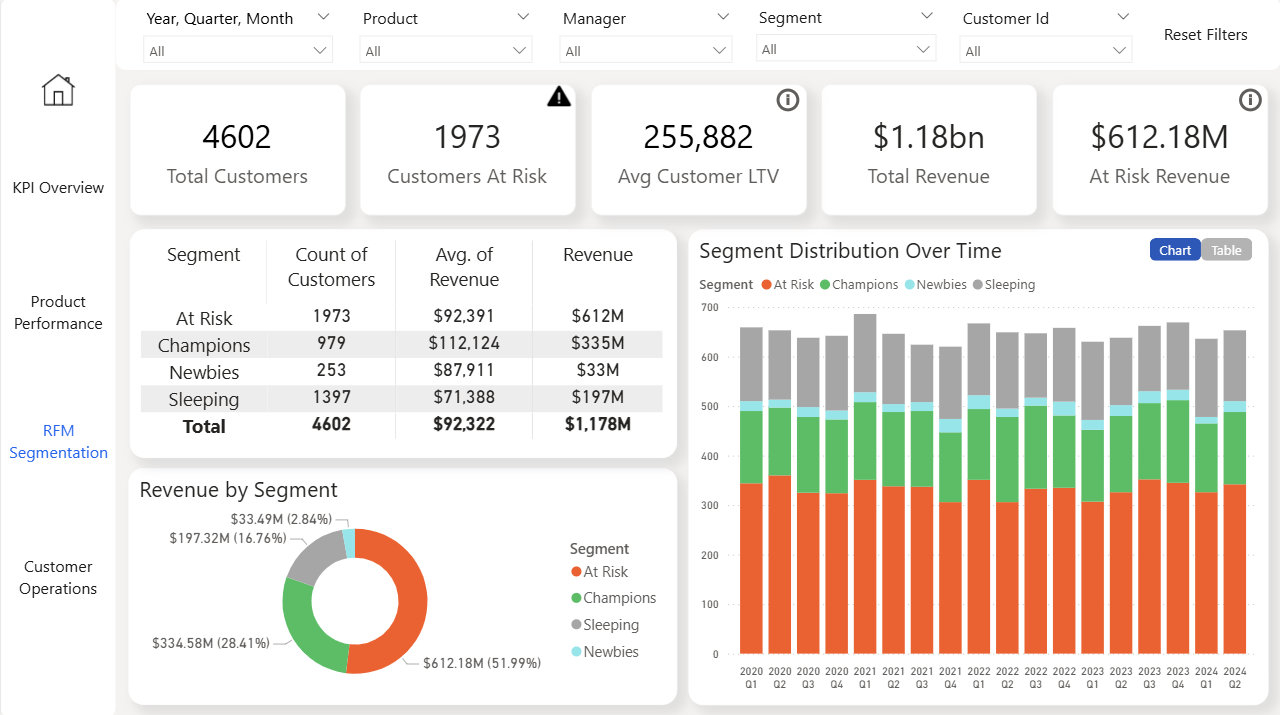

The page's visual inventory and layout, read from the dashboard file:
{"tool":"powerbi","page":{"name":"RFM Segmentation","canvas":[1280,720],"ordinal":3},"visuals":[{"type":"card","fields":{"Values":["_measures (2).Total Customers"]},"box":[128.6,86,215.7,131.4],"z":0},{"type":"card","fields":{"Values":["_measures (2).At Risk Count"]},"box":[359.2,86,215.7,131.4],"z":1000},{"type":"card","fields":{"Values":["_measures.At Risk Revenue"]},"box":[1051.4,86,215.7,131.4],"z":2000},{"type":"donutChart","title":"Revenue by Segment","fields":{"Category":["mart dim_customer.segment"],"Y":["_measures.Total Revenue"]},"box":[127.1,470,548.6,237.1],"z":3000},{"type":"pivotTable","fields":{"Values":["_measures.Total Customers","Avg(mart fact_sales.total_amount)","_measures.Revenue_Millions"],"Rows":["mart dim_customer.segment"]},"box":[128.6,231.4,547.1,228.6],"z":4000},{"type":"columnChart","title":"Segment Distribution Over Time","fields":{"Category":["mart dim_date.quarter_year"],"Y":["_measures (2).Total Customers"],"Series":["mart dim_customer.segment"]},"box":[687.1,231.4,580,475.7],"z":5000},{"type":"actionButton","title":"Chart_button_active","box":[1148.6,240,51.4,22.9],"z":7000},{"type":"actionButton","title":"Table_button_active","box":[1200,240,51.4,22.9],"z":9000},{"type":"textbox","box":[0,0,114.3,720],"z":10000},{"type":"actionButton","box":[0,161.4,114.3,54.3],"z":11000},{"type":"actionButton","box":[0,285.7,114.3,54.3],"z":12000},{"type":"actionButton","box":[0,551.4,114.3,54.3],"z":13000},{"type":"actionButton","box":[0,415.5,115.5,54.5],"z":14000},{"type":"card","fields":{"Values":["_measures.Total Revenue"]},"box":[820.5,86,216,131],"z":15000},{"type":"actionButton","box":[36.2,71.5,48.5,42.3],"z":16000},{"type":"textbox","box":[115,0,1165,71.7],"z":17000},{"type":"card","fields":{"Values":["_measures.Average Customer LTV"]},"box":[589.9,86,215.7,131.4],"z":18000},{"type":"slicer","fields":{"Values":["mart dim_date.year Hierarchy.Year","mart dim_date.year Hierarchy.Quarter","mart dim_date.year Hierarchy.Month"]},"box":[128.9,0,216.7,72.2],"z":20000},{"type":"slicer","fields":{"Values":["mart fact_sales.manager"]},"box":[545.6,0,200,72.2],"z":21000},{"type":"slicer","fields":{"Values":["mart dim_customer.Masked_Customer_Id"]},"box":[945.6,0,200,72.2],"z":22000},{"type":"slicer","fields":{"Values":["mart dim_product.product_name"]},"box":[345.6,0,200,72.2],"z":23000},{"type":"actionButton","box":[1145.6,0,120,72],"z":24000},{"type":"slicer","fields":{"Values":["mart dim_customer.segment"]},"box":[745.6,3,200,63.3],"z":25000},{"type":"actionButton","box":[771.4,85.7,34.3,31.4],"z":26000},{"type":"actionButton","box":[1234.3,85.7,34.3,31.4],"z":27000},{"type":"image","box":[542.9,85.7,31.4,24.3],"z":27001}]}

Visuals, with their boxes on the page's 1280x720 design canvas (x1, y1, x2, y2). These are canvas units, not pixel positions in the 1280x715 screenshot, which may show the page scaled, cropped or inside an application window:
card - _measures (2).Total Customers: l=129, t=86, r=344, b=217
card - _measures (2).At Risk Count: l=359, t=86, r=575, b=217
card - _measures.At Risk Revenue: l=1051, t=86, r=1267, b=217
"Revenue by Segment" donutChart: l=127, t=470, r=676, b=707
pivotTable - _measures.Total Customers x Avg(mart fact_sales.total_amount): l=129, t=231, r=676, b=460
"Segment Distribution Over Time" columnChart: l=687, t=231, r=1267, b=707
"Chart_button_active" actionButton: l=1149, t=240, r=1200, b=263
"Table_button_active" actionButton: l=1200, t=240, r=1251, b=263
textbox: l=0, t=0, r=114, b=720
actionButton: l=0, t=161, r=114, b=216
actionButton: l=0, t=286, r=114, b=340
actionButton: l=0, t=551, r=114, b=606
actionButton: l=0, t=416, r=116, b=470
card - _measures.Total Revenue: l=820, t=86, r=1036, b=217
actionButton: l=36, t=72, r=85, b=114
textbox: l=115, t=0, r=1280, b=72
card - _measures.Average Customer LTV: l=590, t=86, r=806, b=217
slicer - mart dim_date.year Hierarchy.Year x mart dim_date.year Hierarchy.Quarter: l=129, t=0, r=346, b=72
slicer - mart fact_sales.manager: l=546, t=0, r=746, b=72
slicer - mart dim_customer.Masked_Customer_Id: l=946, t=0, r=1146, b=72
slicer - mart dim_product.product_name: l=346, t=0, r=546, b=72
actionButton: l=1146, t=0, r=1266, b=72
slicer - mart dim_customer.segment: l=746, t=3, r=946, b=66
actionButton: l=771, t=86, r=806, b=117
actionButton: l=1234, t=86, r=1269, b=117
image: l=543, t=86, r=574, b=110
